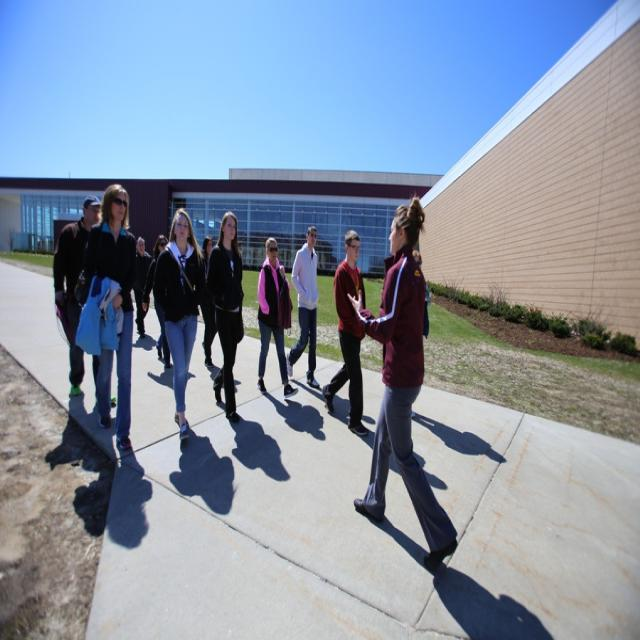body: (42, 325, 552, 639), (344, 191, 460, 574), (70, 182, 138, 454), (51, 192, 118, 409), (151, 205, 206, 442), (319, 226, 371, 440), (203, 207, 246, 424), (256, 235, 300, 399), (284, 224, 325, 390), (141, 233, 173, 371), (196, 234, 219, 370), (130, 233, 153, 339), (410, 249, 423, 419)
